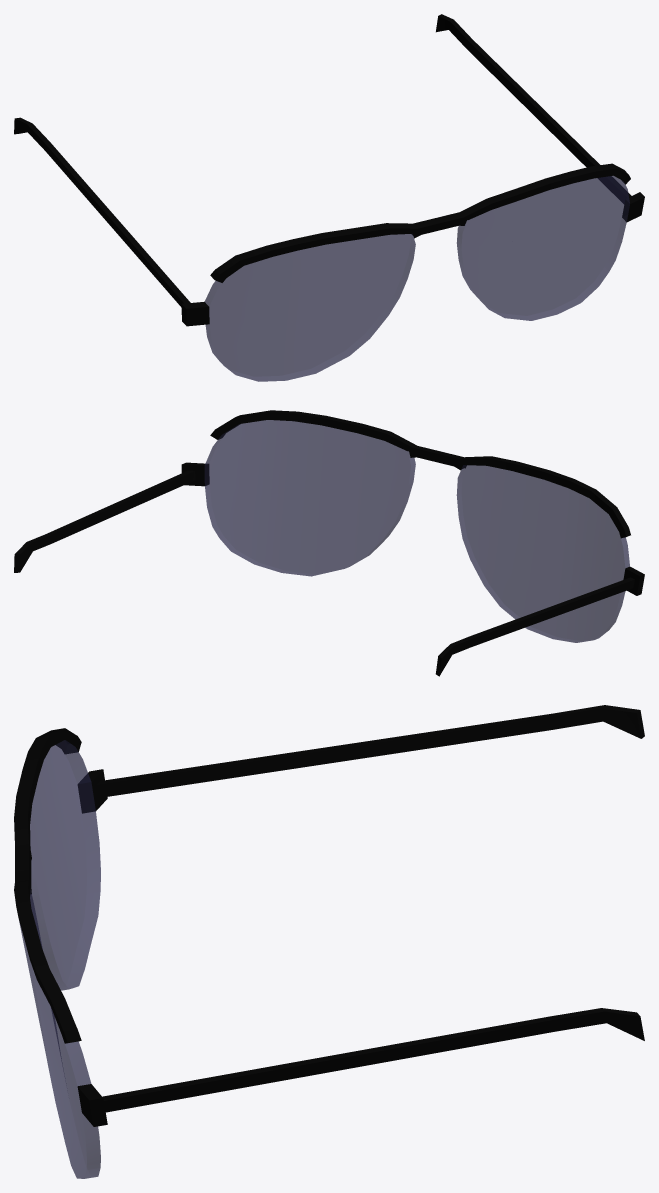
File: FemalePrisoner_Glasses.fbx
3 renders of one model, top to bottom at view 1: azimuth 30°, elevation 25°; view 2: azimuth 150°, elevation 25°; view 3: azimuth 270°, elevation 25°, orthographic. The views are drawn at different scales.
Parts seen in each view (by area): view 1: FemalePrisoner_Glasses; view 2: FemalePrisoner_Glasses; view 3: FemalePrisoner_Glasses.
Part boxes in pixels (x1,y1,x2,y2): FemalePrisoner_Glasses: [14, 14, 644, 381]; FemalePrisoner_Glasses: [14, 410, 644, 676]; FemalePrisoner_Glasses: [14, 705, 644, 1178].
Size of the model in its own units: 26.83 by 8.42 by 21.75.
